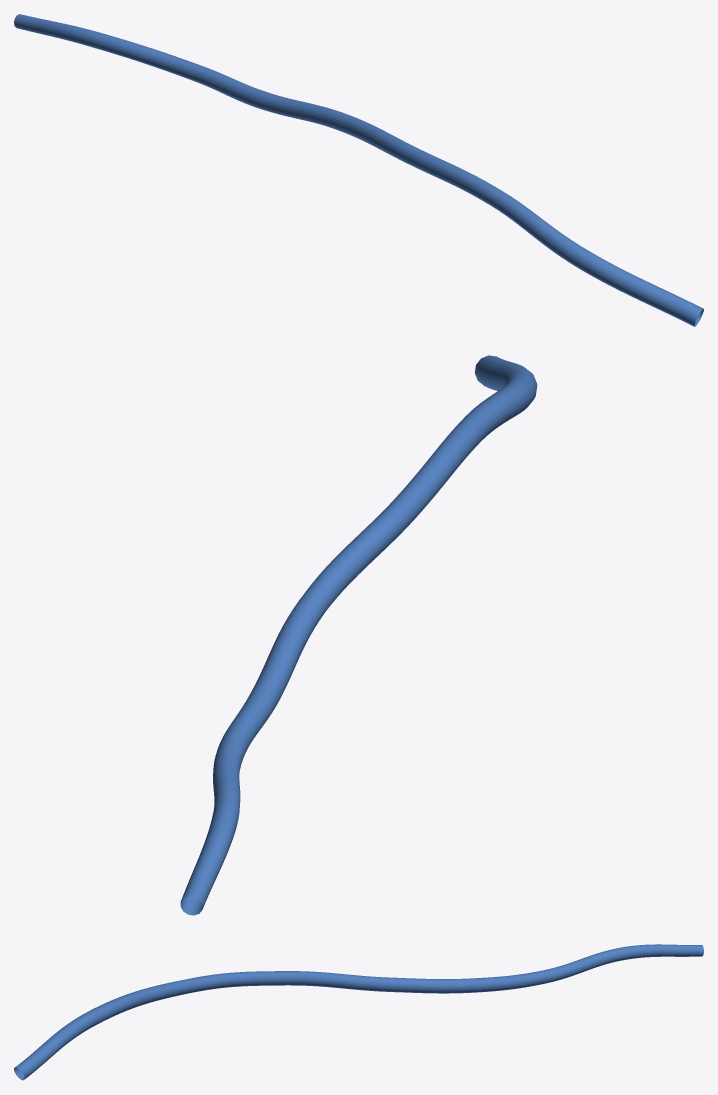
3 renders of one model, top to bottom at view 1: azimuth 30°, elevation 25°; view 2: azimuth 150°, elevation 25°; view 3: azimuth 270°, elevation 25°, orthographic. The views are drawn at different scales.
Visible parts, largest first — view 1: 右侧肱静脉; view 2: 右侧肱静脉; view 3: 右侧肱静脉.
Boxes of the visible parts, <box> form: 右侧肱静脉: <box>14,14,703,326</box>; 右侧肱静脉: <box>180,355,537,915</box>; 右侧肱静脉: <box>14,944,703,1080</box>.
Bounding box in the file's own units: 0.1185 × 0.0372 × 0.3503.
